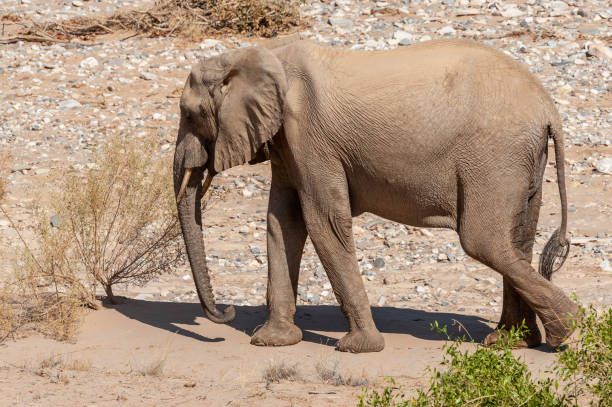africanelephant: (157, 43, 289, 198)
